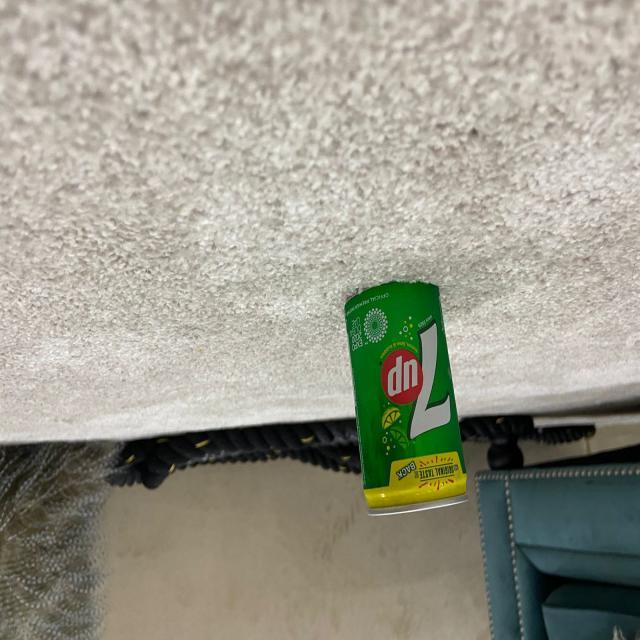can: (342, 278, 469, 518)
